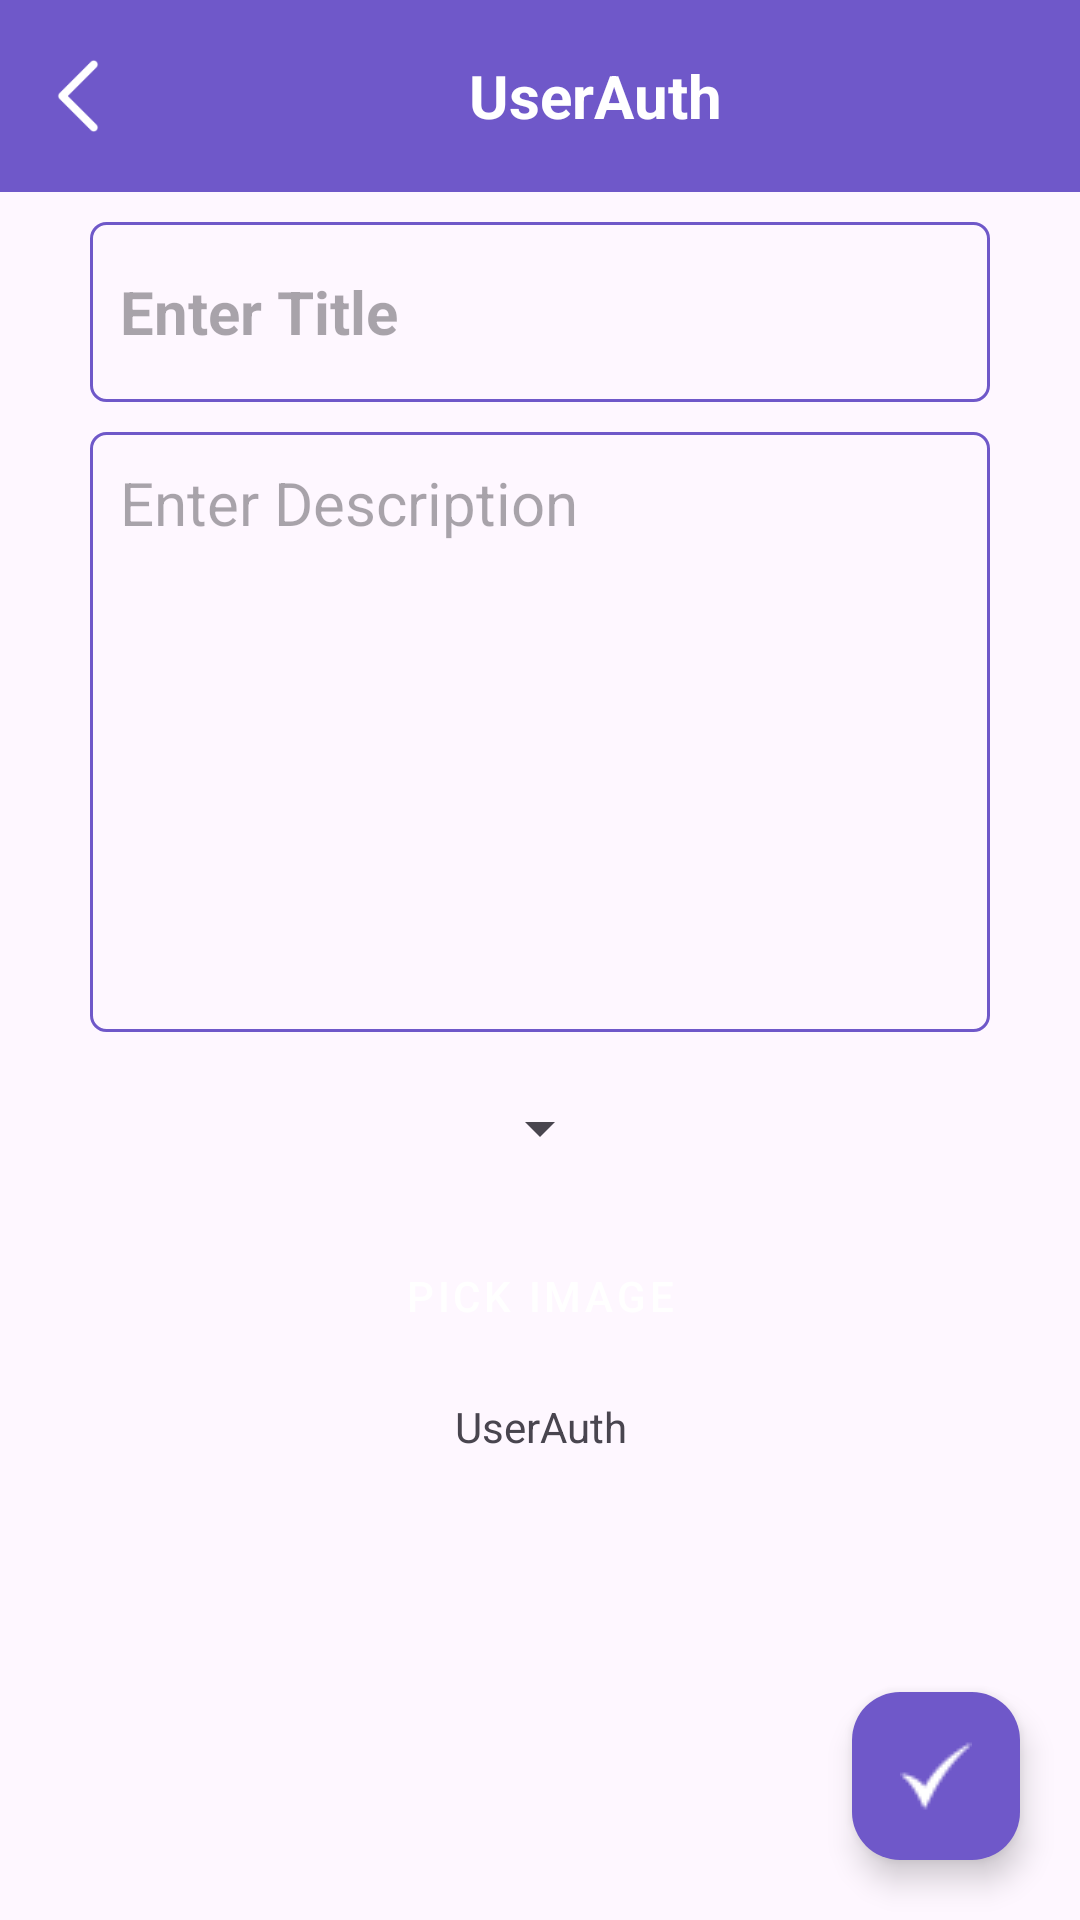

Where to tap for icons on this 1080×1920 app screen, as point (x, y):
backarrow: point (78, 96)
save: point (936, 1776)
